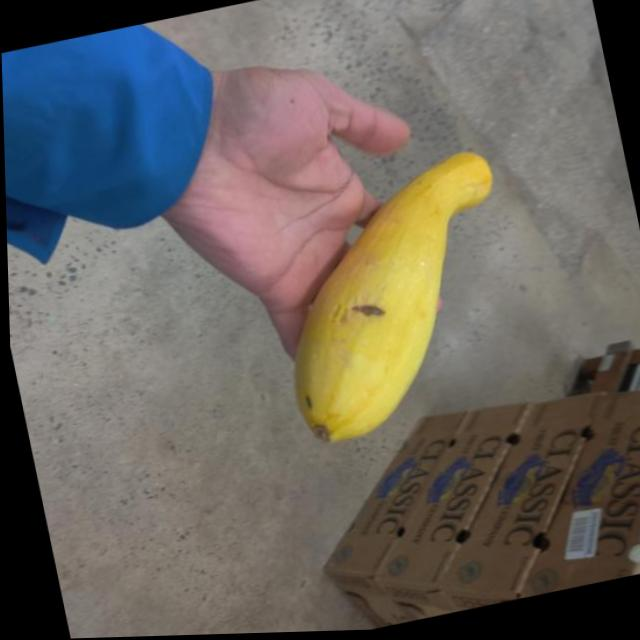Squash: (239, 134, 546, 474)
